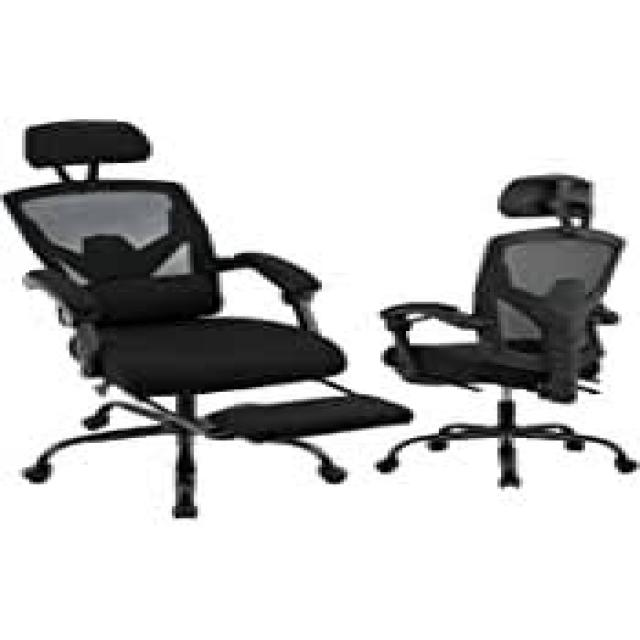chair: (0, 60, 417, 584), (350, 112, 640, 561)
